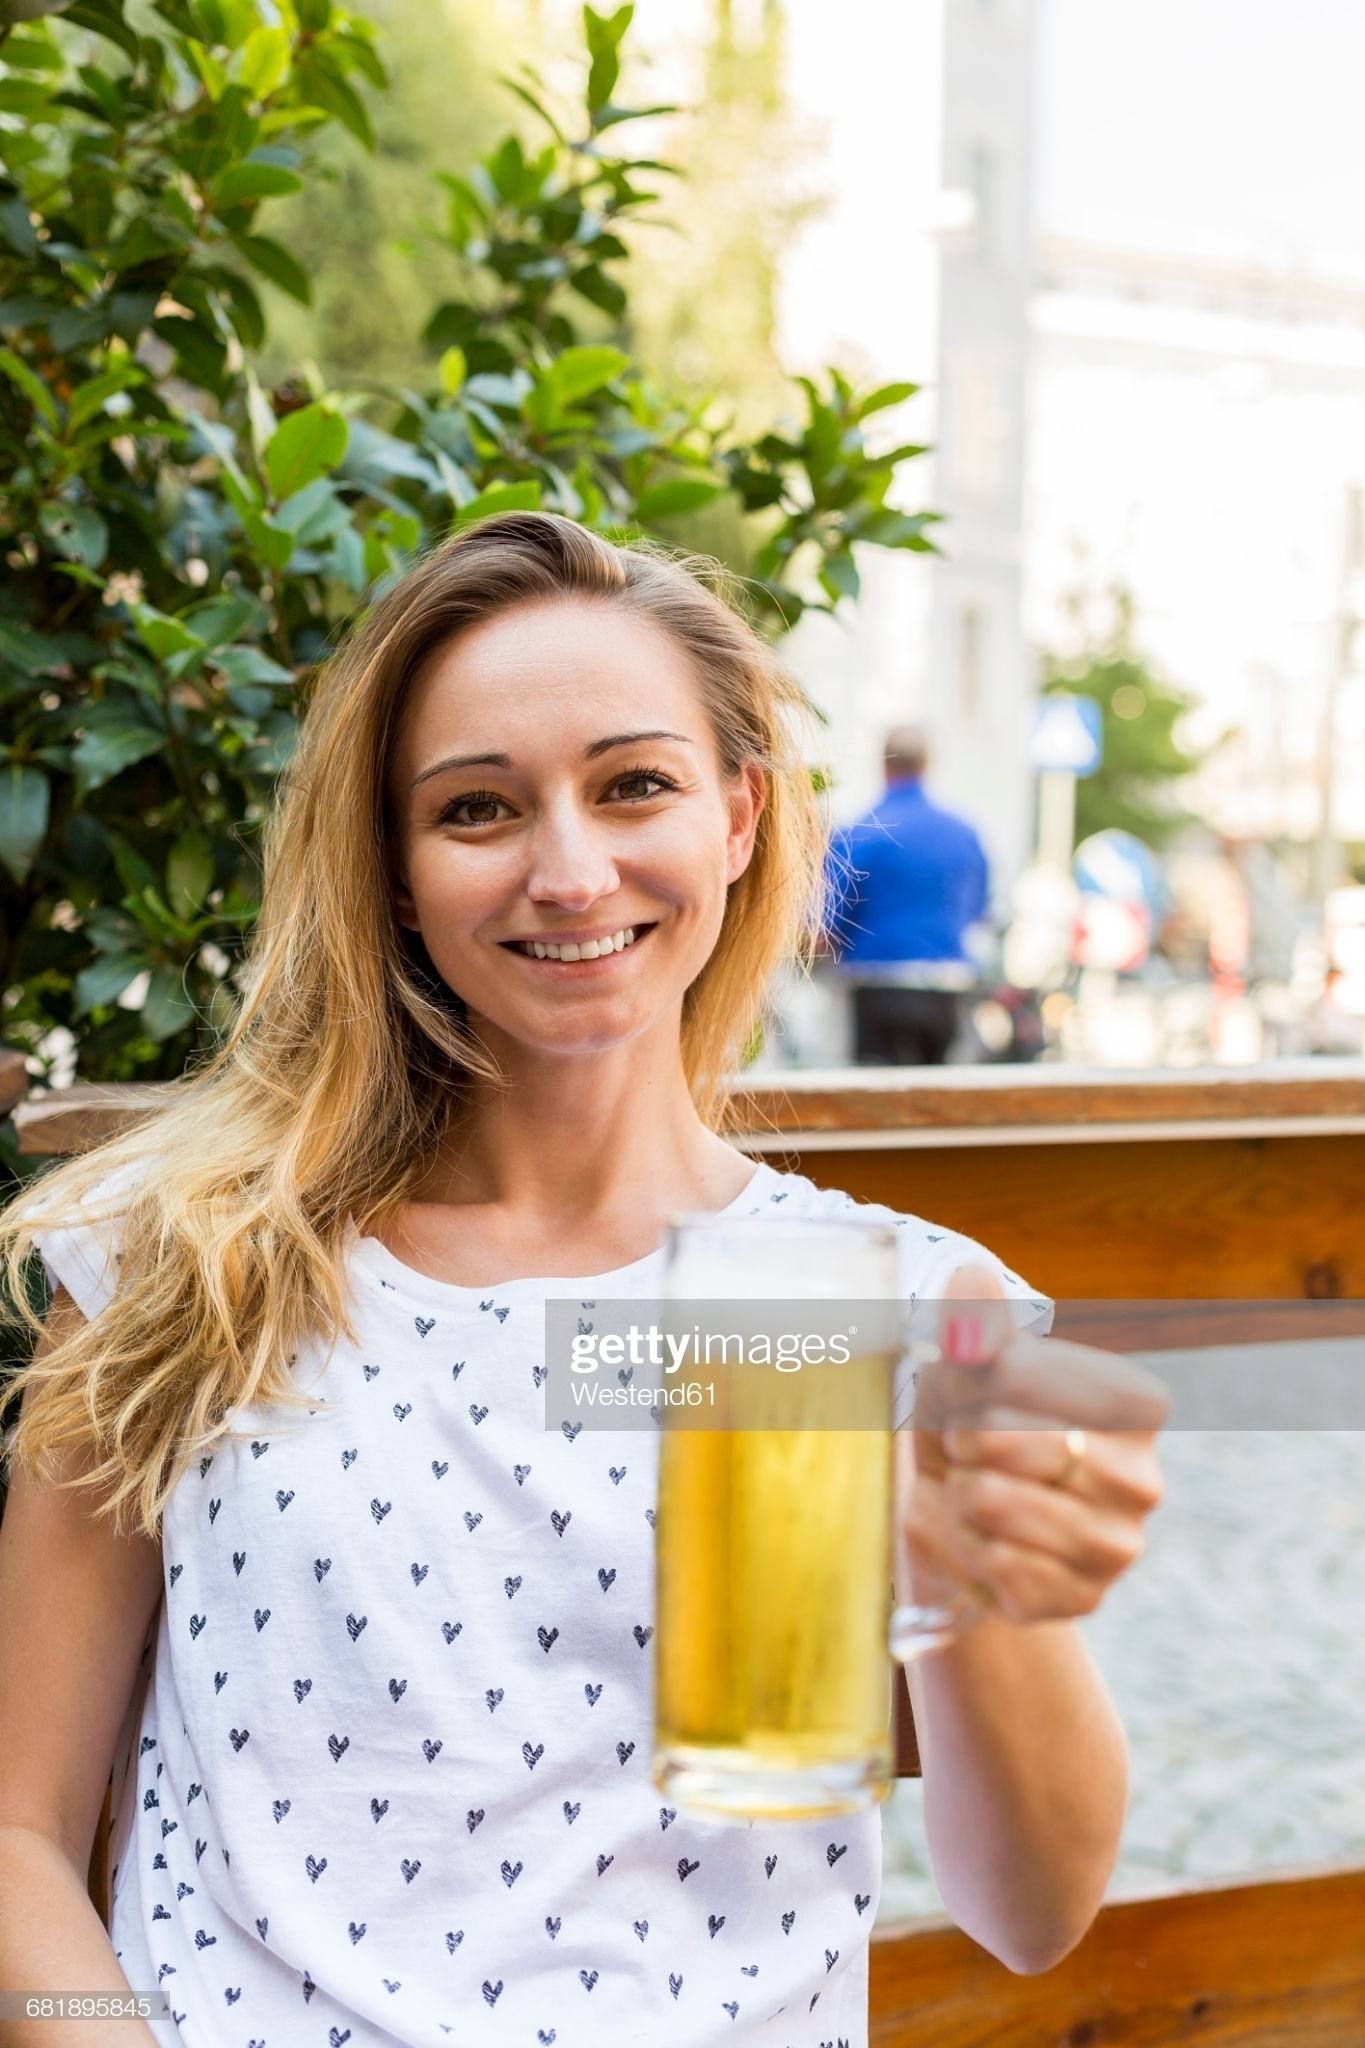whiskey: (628, 1223, 902, 1833)
